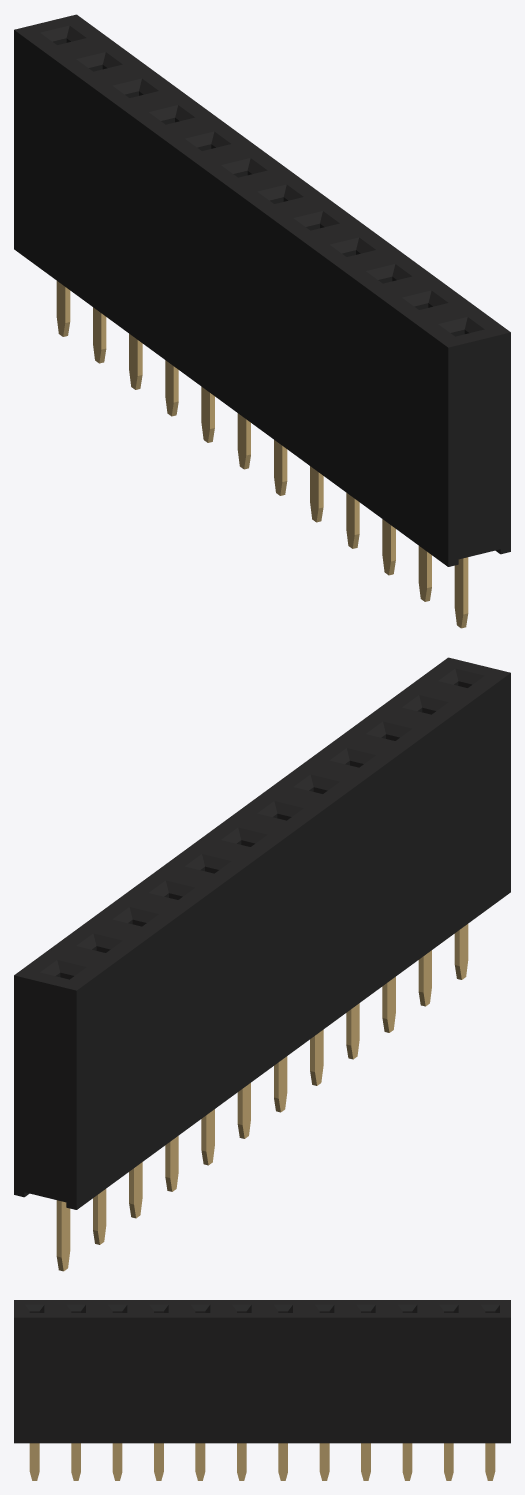
Rendered from kc-pinsocket_1x12_p2.54mm_vertical.glb.
3 views of the same model, one above another, from view 1: azimuth 30°, elevation 25°; view 2: azimuth 150°, elevation 25°; view 3: azimuth 270°, elevation 25° (orthographic). The views are drawn at different scales.
Visible parts, largest first — view 1: 0_0_0_0, 0.75_0.5_0.25_0.9; view 2: 0_0_0_0, 0.75_0.5_0.25_0.9; view 3: 0_0_0_0, 0.75_0.5_0.25_0.9.
Boxes of the visible parts, x1=… form: 0_0_0_0: x1=14, y1=14, x2=510, y2=566; 0.75_0.5_0.25_0.9: x1=56, y1=281, x2=468, y2=628; 0_0_0_0: x1=14, y1=657, x2=510, y2=1209; 0.75_0.5_0.25_0.9: x1=56, y1=924, x2=468, y2=1271; 0_0_0_0: x1=14, y1=1300, x2=510, y2=1443; 0.75_0.5_0.25_0.9: x1=29, y1=1443, x2=495, y2=1480.
Size of the model in its own units: 0.2541 by 1.16 by 3.05.
